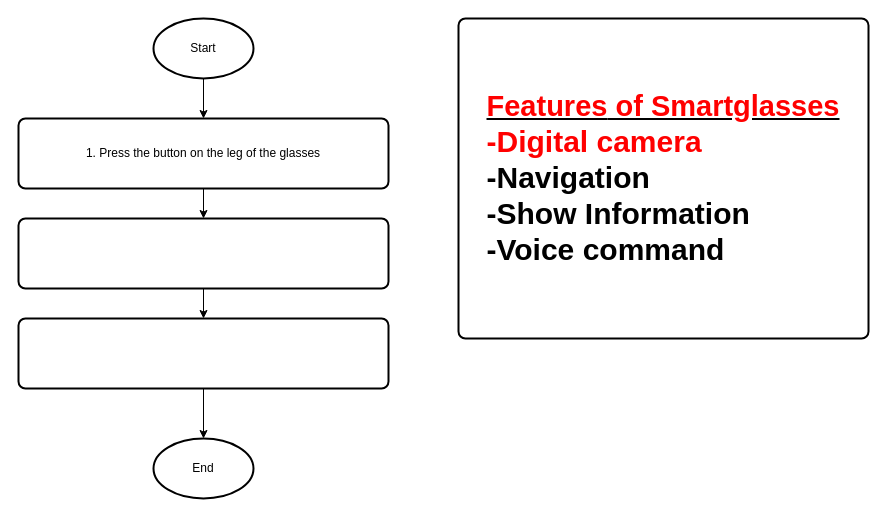
The diagram is 886 pixels wide and 516 high, and some of its shapes have lost their labels. Here are the shapes that lost their labels. From the top down, the centre of each, then its label:
point (203, 253): 2. Glasses take a picture
point (203, 353): 3. Glasses send a picture to my phone
